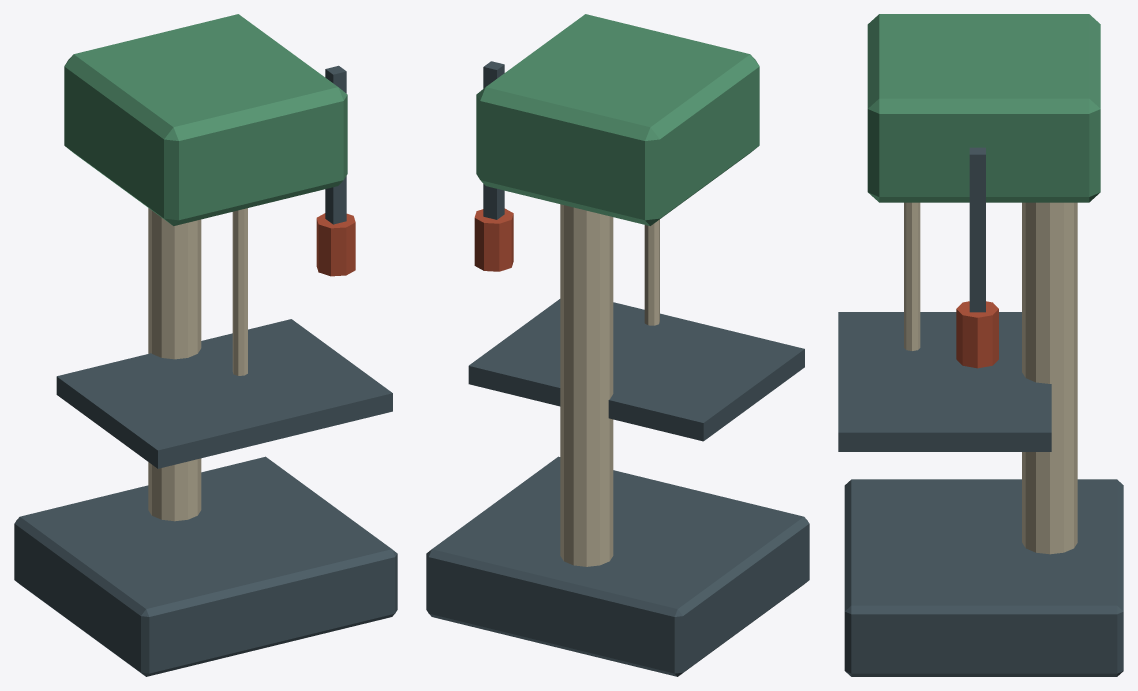
File: drill_press.glb
3 views of the same model, side by side, from view 1: azimuth 30°, elevation 25°; view 2: azimuth 150°, elevation 25°; view 3: azimuth 270°, elevation 25° (orthographic). The views are drawn at different scales.
Visible parts, largest first — view 1: drill_press; view 2: drill_press; view 3: drill_press.
Part boxes in pixels (x1,y1,x2,y2): drill_press: (14, 14, 397, 676); drill_press: (426, 14, 809, 676); drill_press: (838, 14, 1123, 676).
Bounding box in the file's own units: 1.01 × 1.87 × 0.87.
